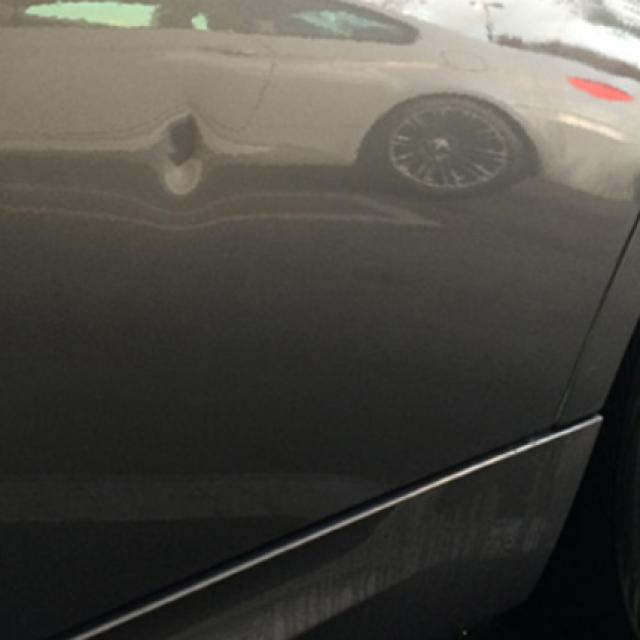dents: (124, 75, 252, 239)
